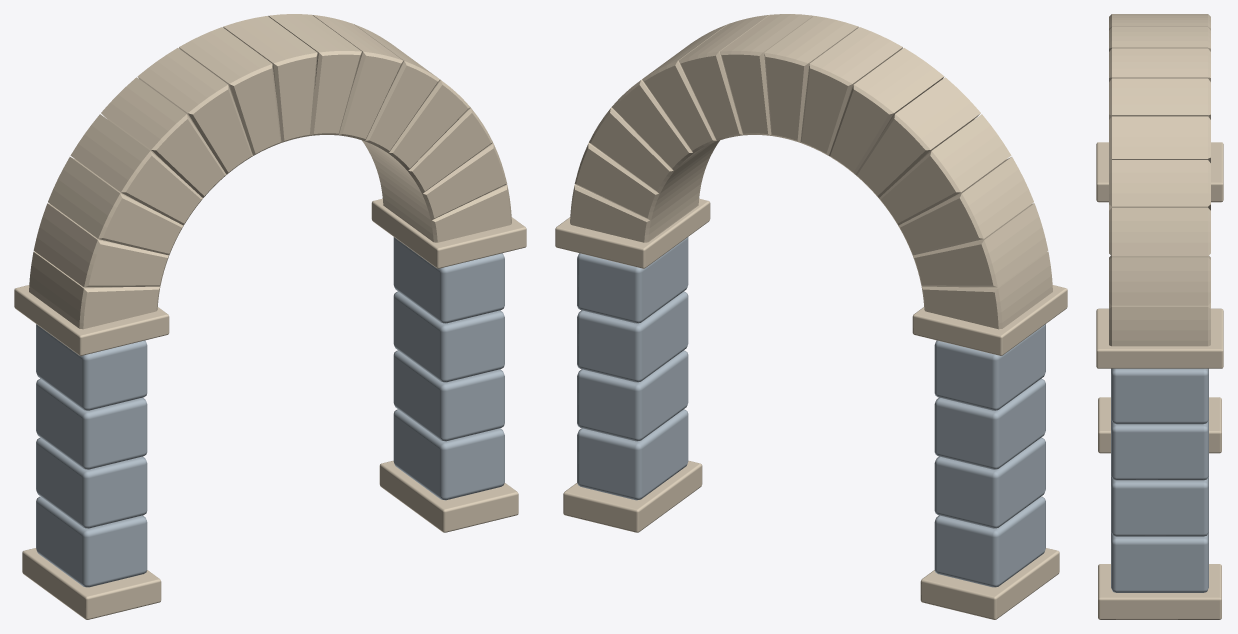
File: arch_round.glb
3 renders of one model, left to right at view 1: azimuth 30°, elevation 25°; view 2: azimuth 150°, elevation 25°; view 3: azimuth 270°, elevation 25°, orthographic. The views are drawn at different scales.
Visible parts, largest first — view 1: arch_round; view 2: arch_round; view 3: arch_round.
Boxes of the visible parts, x1,y1,x2,y2 form: arch_round: [14, 14, 526, 619]; arch_round: [555, 14, 1067, 619]; arch_round: [1096, 14, 1223, 619].
Bounding box in the file's own units: 3.18 × 3.44 × 0.82.
